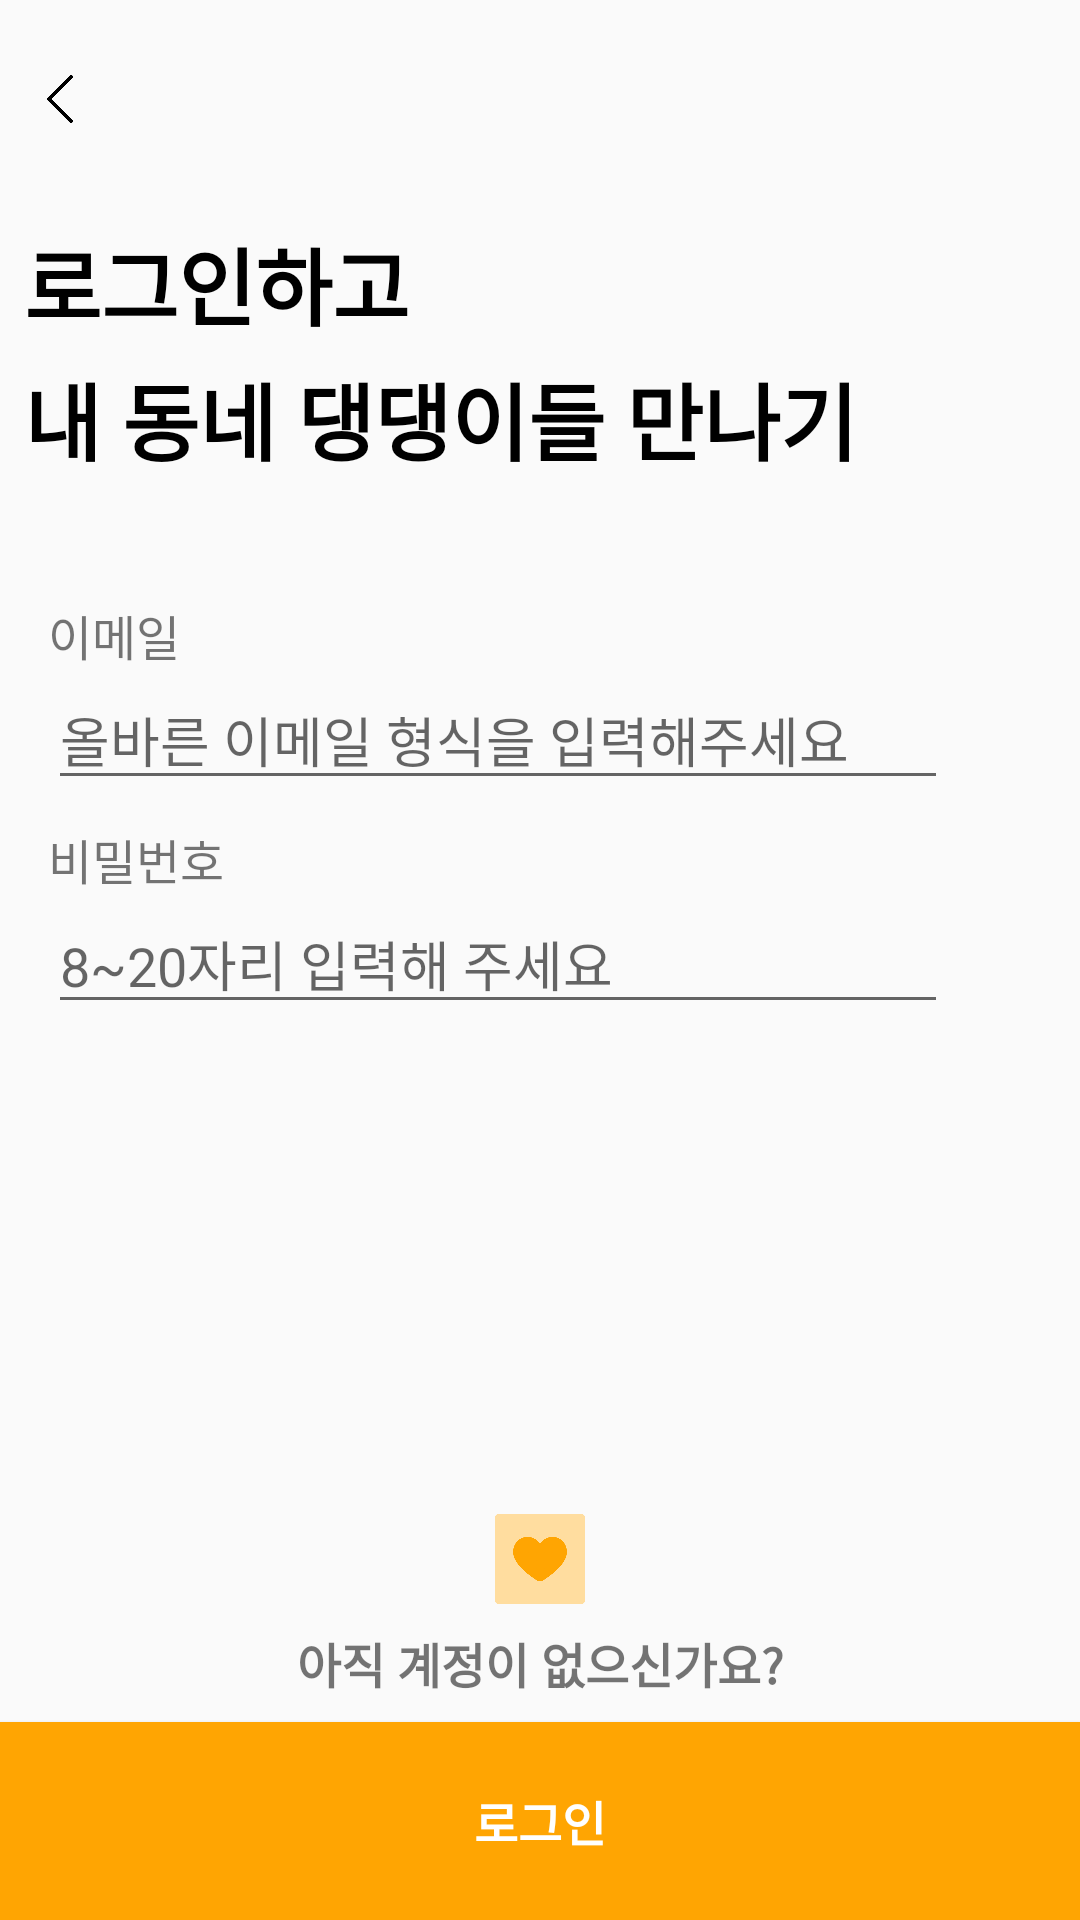

Point at icon controls on the screen. Image size 1080px×1920px, points as (x,y).
back: (60,99)
orangeheart: (540,1559)
